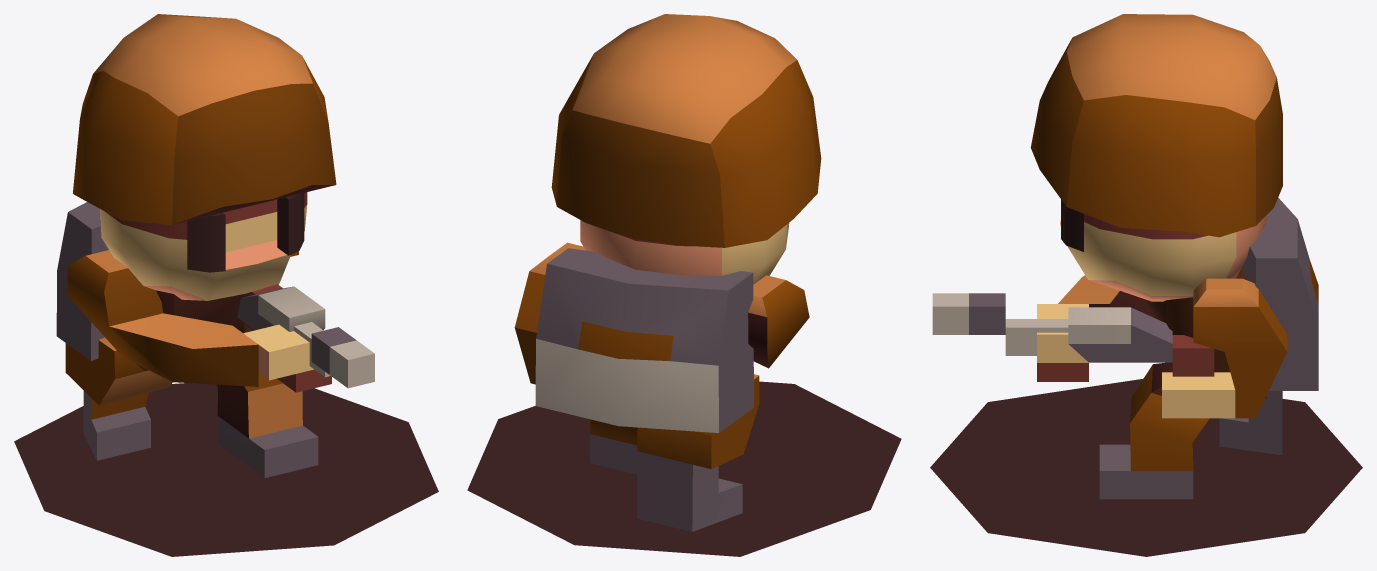
The model's file is InfantryMesh.UmberWilds.glb.
3 views of the same model, side by side, from view 1: azimuth 30°, elevation 25°; view 2: azimuth 150°, elevation 25°; view 3: azimuth 270°, elevation 25° (orthographic). The views are drawn at different scales.
Visible parts, largest first — view 1: InfantryMesh.UmberWilds; view 2: InfantryMesh.UmberWilds; view 3: InfantryMesh.UmberWilds.
Part boxes in pixels (x1,y1,x2,y2): InfantryMesh.UmberWilds: (14, 14, 438, 556); InfantryMesh.UmberWilds: (467, 14, 901, 556); InfantryMesh.UmberWilds: (930, 14, 1362, 556).
Size of the model in its own units: 2.03 by 2.3 by 2.07.
Materials: 1 (1 with a texture image).
